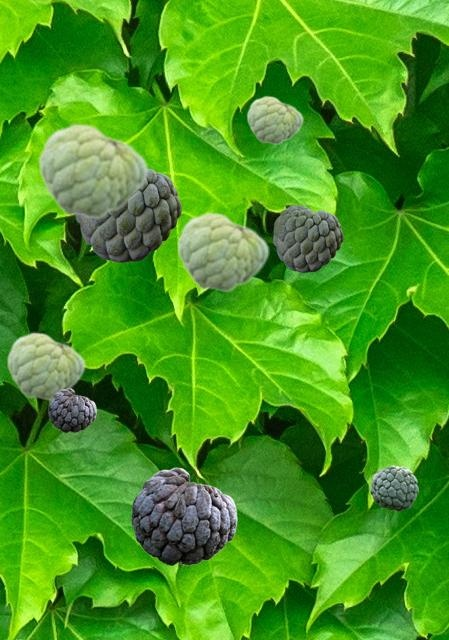atis: (37, 122, 147, 219), (131, 467, 236, 564), (75, 168, 180, 261), (176, 211, 268, 292), (6, 331, 84, 400), (273, 205, 342, 271), (246, 95, 302, 144), (370, 465, 417, 510), (48, 388, 95, 431)
